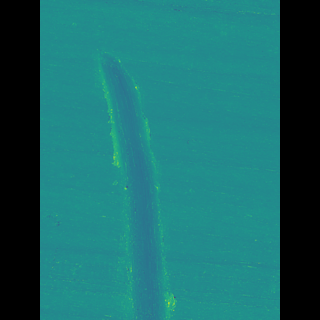Loch: (109, 44, 173, 320)
